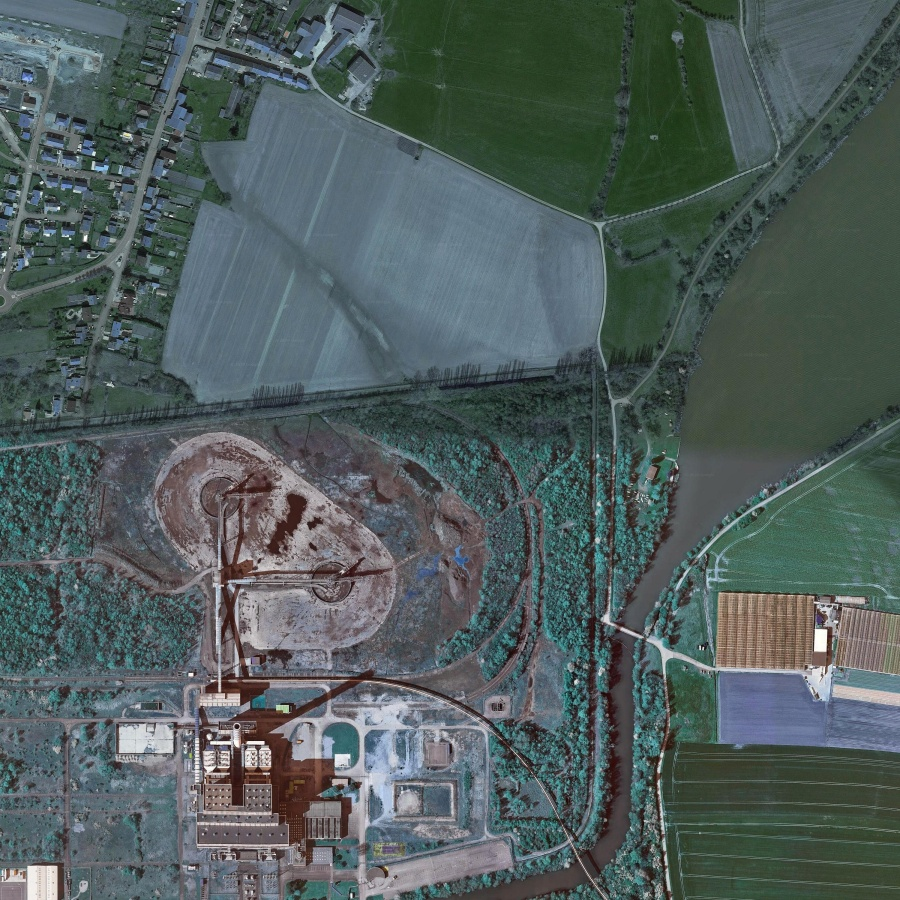PowerPlant: (122, 432, 395, 858)
